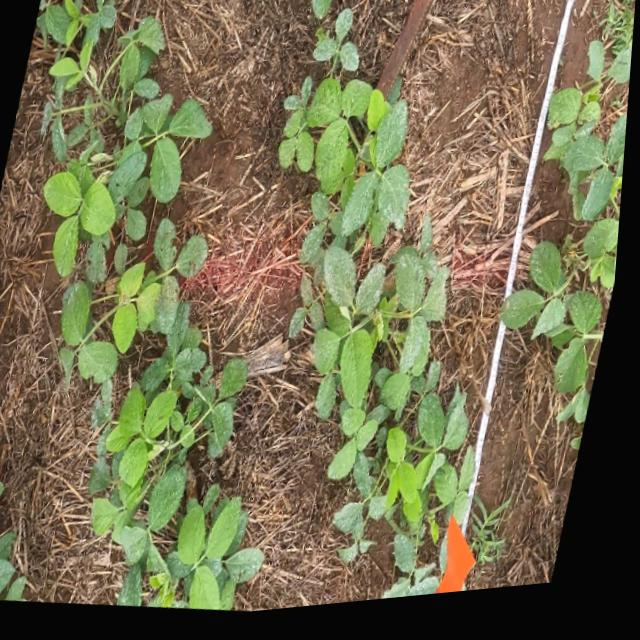grassy_weed: (480, 507, 519, 575), (602, 0, 637, 68)
soy_plant: (38, 0, 271, 615), (283, 16, 482, 607), (506, 53, 634, 462), (0, 533, 35, 602), (312, 0, 333, 25)
